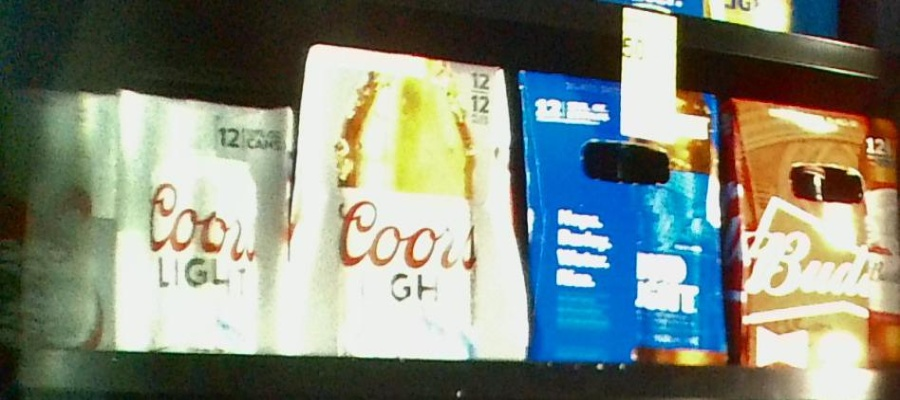bottle: (297, 43, 530, 359), (521, 67, 724, 366), (728, 98, 900, 368), (116, 89, 290, 354), (1, 91, 116, 353)
